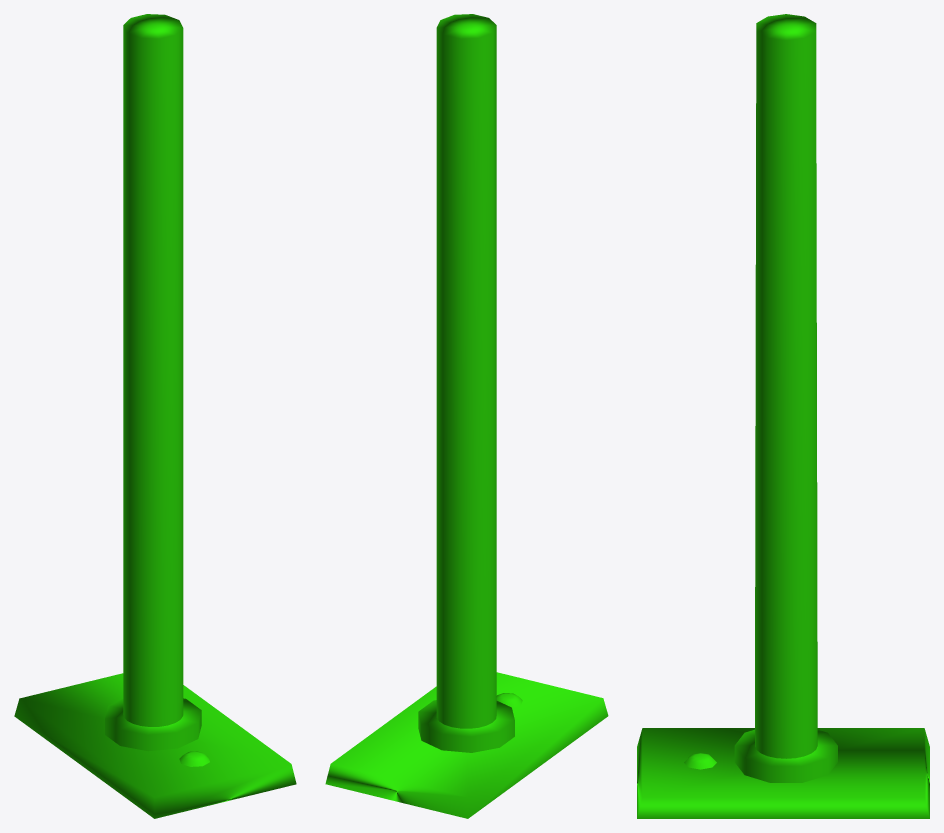
Rendered from Supermarket_Fence_01_Lod0.fbx.
3 views of the same model, side by side, from view 1: azimuth 30°, elevation 25°; view 2: azimuth 150°, elevation 25°; view 3: azimuth 270°, elevation 25° (orthographic). The views are drawn at different scales.
Parts seen in each view (by area): view 1: Supermarket_Fence_01_Lod0; view 2: Supermarket_Fence_01_Lod0; view 3: Supermarket_Fence_01_Lod0.
Boxes of the visible parts, x1,y1,x2,y2 form: Supermarket_Fence_01_Lod0: (14,14,296,818); Supermarket_Fence_01_Lod0: (325,14,608,818); Supermarket_Fence_01_Lod0: (637,14,929,818).
Bounding box in the file's own units: 15.21 × 73.93 × 25.98.
